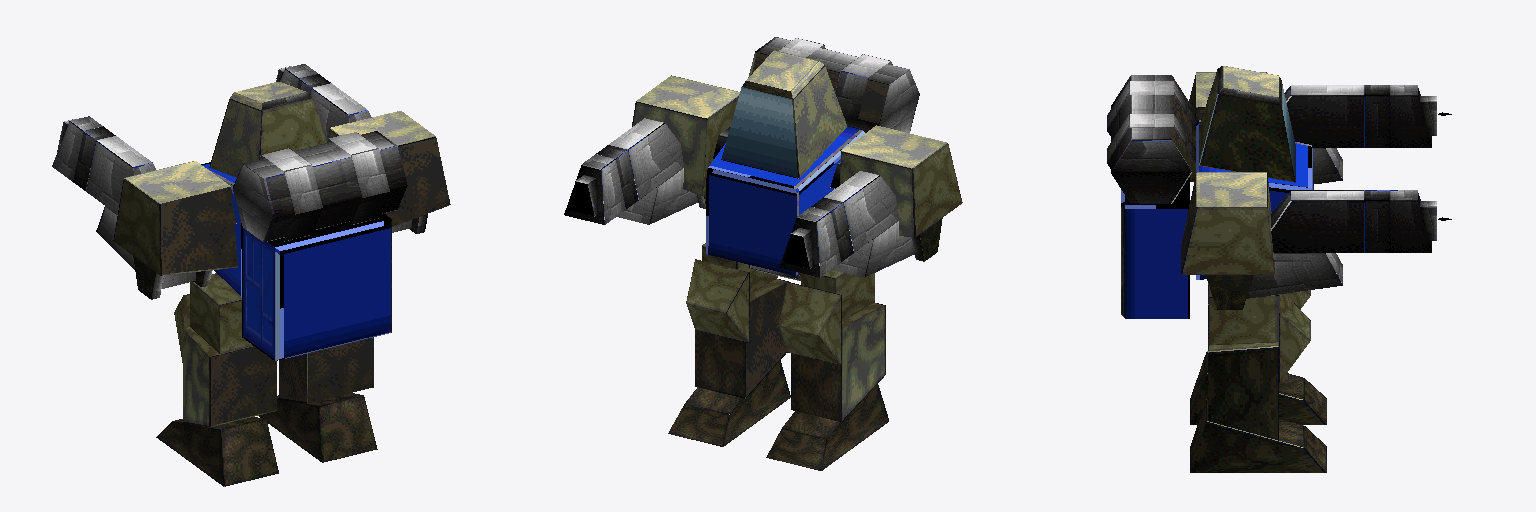
The picture shows the model from 3 angles: view 1: azimuth 30°, elevation 25°; view 2: azimuth 150°, elevation 25°; view 3: azimuth 270°, elevation 25°; orthographic projection.
Visible parts, largest first — view 1: body, leftLeg, rightLeg; view 2: body, leftLeg, rightLeg; view 3: body, rightLeg, leftLeg.
Boxes of the visible parts, x1=… form: body: x1=52, y1=64, x2=450, y2=360; leftLeg: x1=156, y1=273, x2=278, y2=486; rightLeg: x1=259, y1=337, x2=377, y2=462; body: x1=564, y1=37, x2=962, y2=280; leftLeg: x1=766, y1=270, x2=888, y2=470; rightLeg: x1=668, y1=243, x2=790, y2=446; body: x1=1107, y1=66, x2=1451, y2=318; rightLeg: x1=1190, y1=288, x2=1326, y2=472; leftLeg: x1=1190, y1=285, x2=1326, y2=424.
Size of the model in its own units: 22.91 by 27.09 by 23.72.
1 materials, 1 textured.